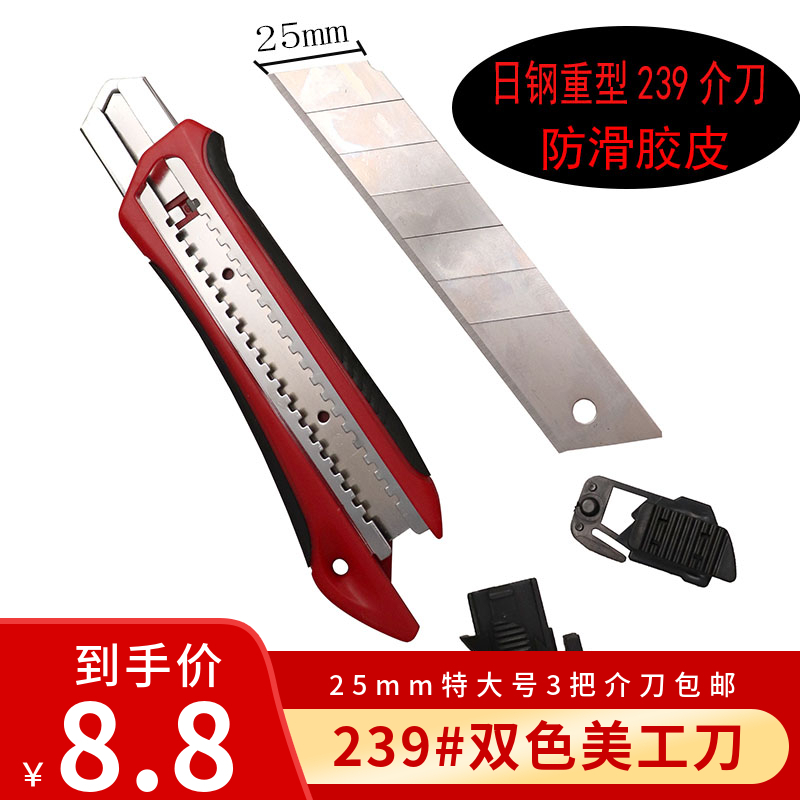cutter: (75, 73, 445, 641), (250, 48, 669, 456)
